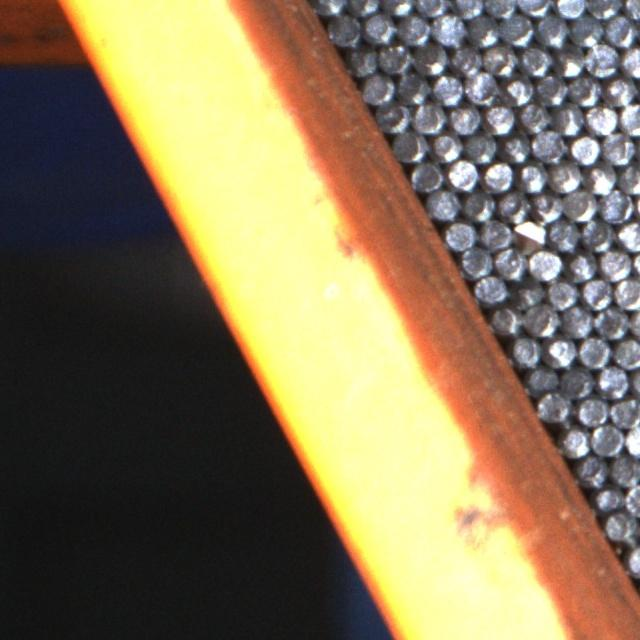tool: (595, 364, 630, 398), (466, 13, 501, 47), (465, 70, 500, 104), (449, 42, 484, 76), (590, 421, 625, 455), (431, 10, 465, 45), (579, 275, 613, 309), (518, 42, 552, 76), (575, 392, 609, 426), (559, 364, 593, 398), (568, 72, 602, 106), (564, 188, 598, 222), (598, 188, 632, 222), (483, 41, 517, 75), (414, 41, 448, 75), (538, 389, 572, 423), (584, 41, 618, 75), (532, 128, 566, 162), (581, 218, 615, 252), (392, 127, 426, 161), (596, 304, 630, 338), (489, 302, 523, 336), (396, 70, 430, 104), (544, 333, 577, 368), (568, 130, 601, 164), (604, 13, 638, 46), (397, 11, 430, 45), (446, 157, 479, 191), (578, 334, 611, 368), (429, 129, 463, 162), (602, 130, 635, 164), (378, 40, 412, 73), (603, 74, 637, 107), (430, 72, 464, 105), (569, 15, 603, 48), (499, 130, 532, 164), (523, 302, 557, 335), (447, 100, 480, 134), (411, 159, 445, 192), (412, 100, 446, 133), (560, 304, 594, 337), (482, 100, 515, 134), (361, 70, 394, 104), (511, 275, 545, 308), (363, 10, 396, 43), (599, 246, 632, 279), (481, 159, 514, 192), (515, 159, 548, 192), (377, 98, 410, 131), (495, 246, 528, 279), (443, 218, 476, 251), (328, 12, 361, 45), (462, 188, 495, 221), (552, 45, 585, 78), (531, 188, 564, 221), (575, 453, 608, 486), (502, 11, 534, 45), (548, 217, 580, 251), (550, 158, 582, 192), (478, 218, 512, 250), (604, 510, 638, 542), (558, 424, 590, 458), (609, 393, 640, 428), (528, 247, 560, 280), (476, 272, 508, 305), (428, 187, 460, 220), (464, 130, 497, 162), (496, 189, 528, 222), (545, 276, 578, 308), (535, 72, 567, 105), (564, 248, 597, 280), (518, 99, 550, 132), (608, 452, 640, 485), (502, 74, 535, 106), (551, 102, 584, 134), (585, 162, 618, 194), (536, 13, 568, 46), (584, 101, 617, 133), (347, 43, 379, 76), (461, 245, 493, 278), (509, 334, 542, 366), (526, 362, 558, 394), (514, 218, 546, 250), (593, 481, 624, 512), (612, 334, 640, 368), (613, 274, 640, 308), (617, 218, 640, 252), (618, 162, 640, 195), (620, 101, 640, 135), (621, 44, 640, 78), (484, 0, 518, 18), (588, 0, 620, 19), (554, 0, 587, 18), (415, 0, 449, 17), (452, 0, 484, 18), (518, 0, 552, 15), (380, 0, 414, 15), (312, 0, 346, 15), (346, 0, 379, 15), (626, 480, 640, 514)
